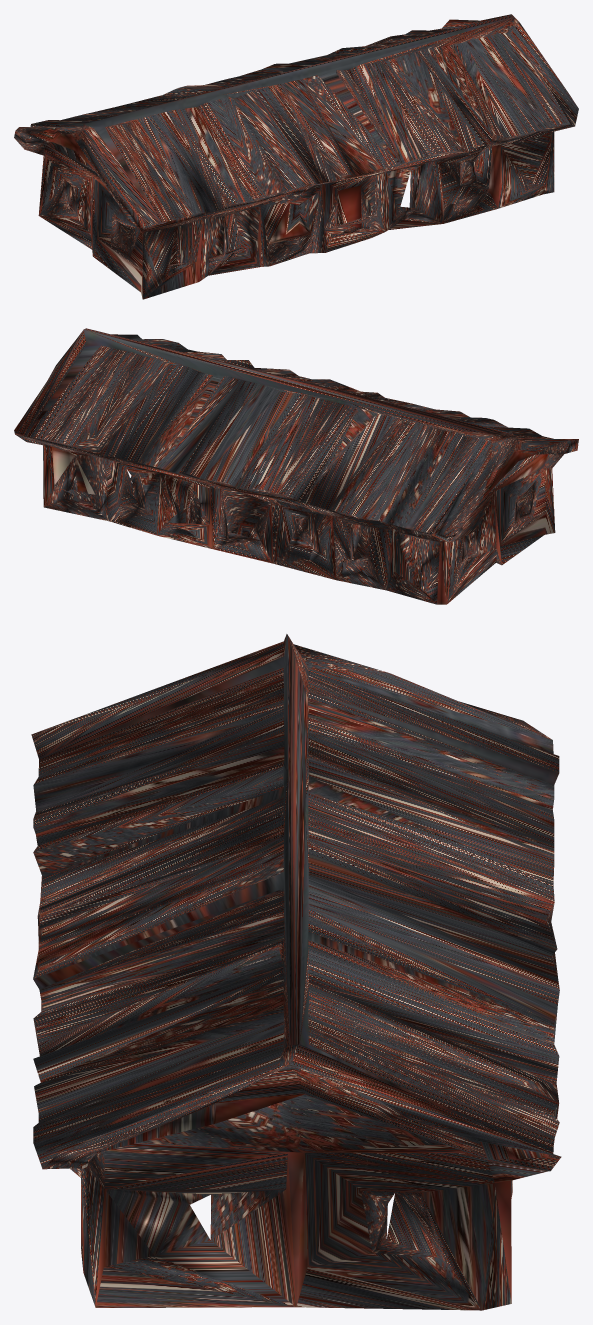
Rendered from changdian_lod2.glb.
3 renders of one model, top to bottom at view 1: azimuth 30°, elevation 25°; view 2: azimuth 150°, elevation 25°; view 3: azimuth 270°, elevation 25°, orthographic. The views are drawn at different scales.
Parts seen in each view (by area): view 1: node_0; view 2: node_0; view 3: node_0.
Boxes of the visible parts, box(x1,y1,x2,y2) form: node_0: box(14, 14, 578, 299); node_0: box(14, 328, 578, 604); node_0: box(31, 634, 561, 1310).
Bounding box in the file's own units: 26 × 7.9 × 13.48.
1 material, 1 textured.
